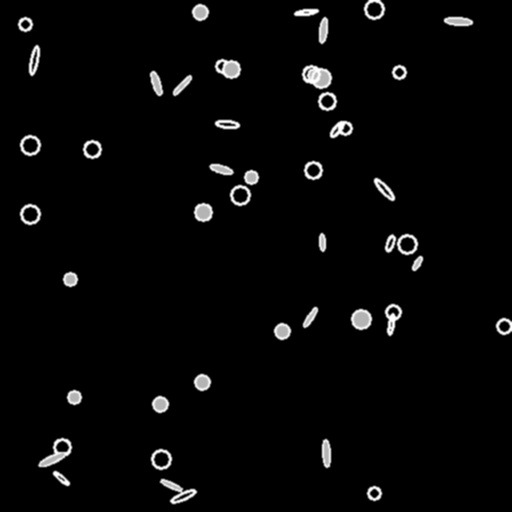pseudomonas: (373, 177, 395, 201), (38, 450, 66, 468), (169, 487, 197, 505), (172, 74, 192, 96), (301, 306, 319, 328), (149, 71, 163, 95), (28, 46, 40, 74), (160, 478, 182, 492), (329, 120, 345, 138), (209, 163, 233, 175), (52, 470, 70, 486), (318, 18, 328, 42), (444, 17, 472, 25), (384, 234, 396, 252), (322, 440, 330, 466), (411, 255, 423, 271), (215, 120, 239, 128), (295, 8, 317, 16), (387, 314, 395, 334), (319, 234, 325, 250)
synechocystis: (152, 450, 170, 468), (365, 0, 383, 18), (398, 235, 416, 253), (21, 205, 39, 223), (21, 136, 39, 154), (312, 69, 330, 87), (231, 186, 249, 204), (352, 310, 370, 328), (54, 439, 70, 455), (84, 141, 100, 157), (305, 162, 321, 178), (195, 204, 211, 220), (319, 93, 335, 109), (223, 61, 239, 77), (303, 66, 319, 82), (153, 397, 167, 411), (193, 5, 207, 19), (275, 324, 289, 338), (386, 305, 400, 319), (195, 375, 209, 389), (497, 319, 511, 333), (68, 391, 80, 403), (339, 122, 351, 134), (368, 487, 380, 499), (19, 18, 31, 30), (308, 69, 320, 81), (245, 171, 257, 183), (216, 60, 228, 72), (64, 273, 76, 285), (393, 66, 405, 78)
